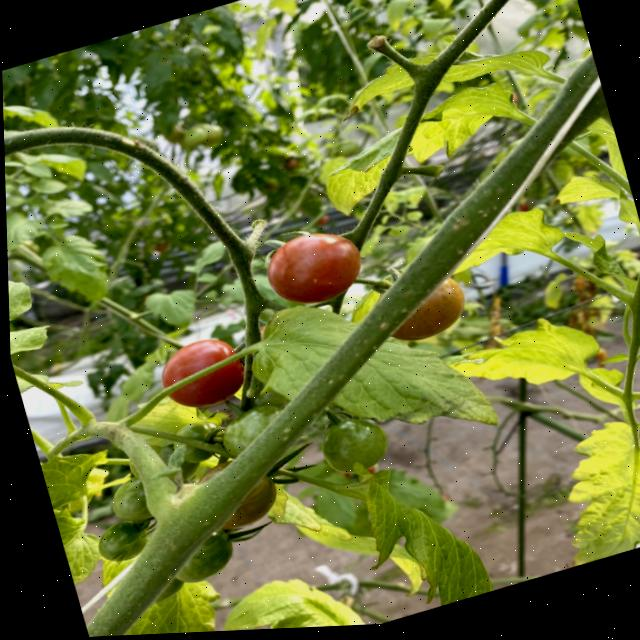ripe0: (317, 410, 392, 480)
ripe2: (258, 220, 369, 315), (154, 330, 252, 417)
